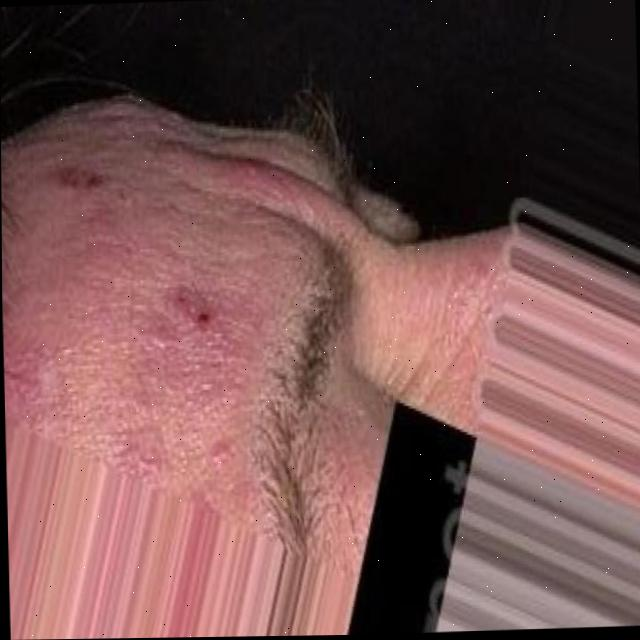Rosacea: (1, 136, 257, 525), (201, 147, 325, 224)
